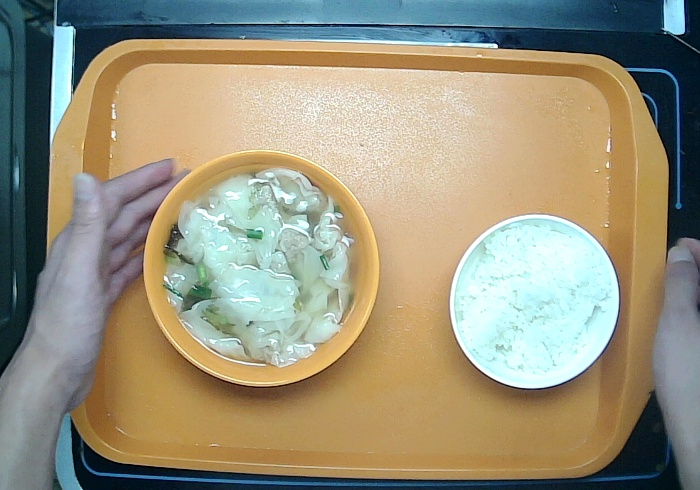NLDX-Fan_Wan: (448, 215, 619, 389)
NLDX-Hun_Tun_Wan: (143, 150, 380, 388)
